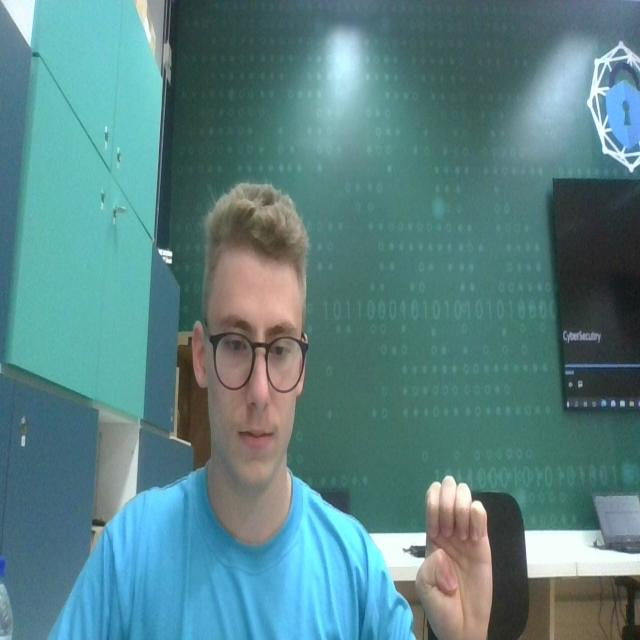E: (412, 464, 497, 640)
